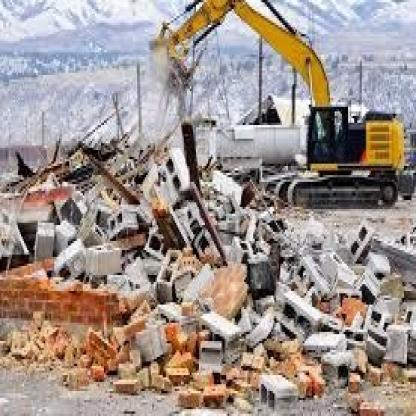brick: (2, 116, 414, 412)
